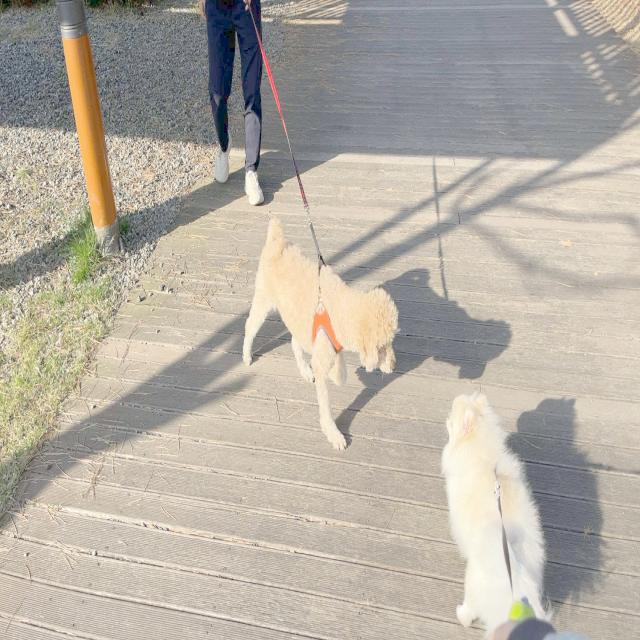Dog: (438, 388, 554, 640)
Leashed_Dog: (230, 0, 400, 453)
